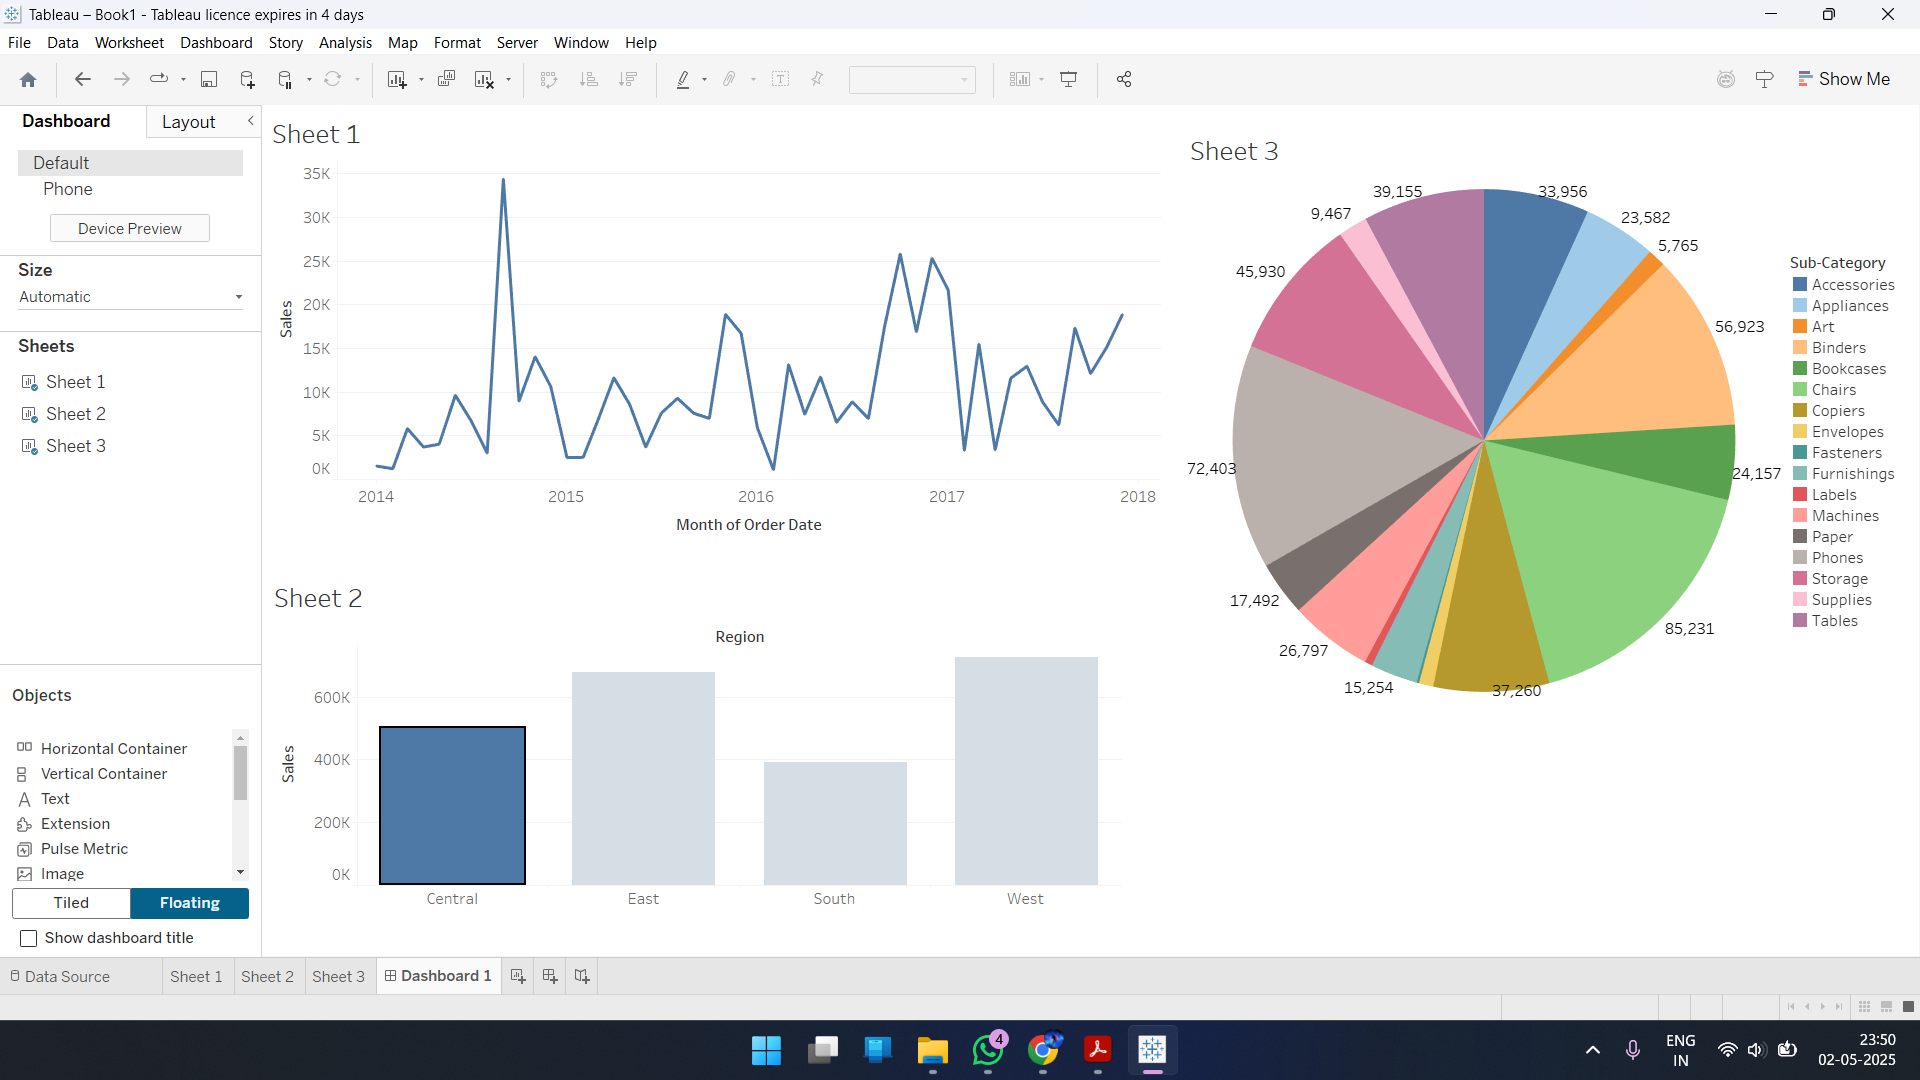

This screenshot's page, from the dashboard's own definition file:
{"tool":"tableau","page":{"name":"Dashboard 1","canvas":[1000,1000],"units":"permille","ordinal":0},"visuals":[{"type":"worksheet","title":"Sheet 1","mark":"Automatic","rows":["Sales"],"cols":["Order Date"],"box":[3.6,8.2,538.9,505.3]},{"type":"worksheet","title":"Sheet 3","mark":"Pie","box":[557.6,28.2,376.6,706.2]},{"type":"worksheet","title":"Sheet 2","mark":"Automatic","rows":["Sales"],"cols":["Region"],"box":[4.8,553.5,514.2,392.5]}]}

Visuals, with their boxes on the dashboard's canvas, which has no fixed pixel size, in thousandths of its width and height (x1, y1, x2, y2). These are canvas units, not pixel positions in the 1920x1080 screenshot, which may show the page scaled, cropped or inside an application window:
"Sheet 1" worksheet: 4, 8, 542, 514
"Sheet 3" worksheet (Pie marks): 558, 28, 934, 734
"Sheet 2" worksheet: 5, 554, 519, 946
